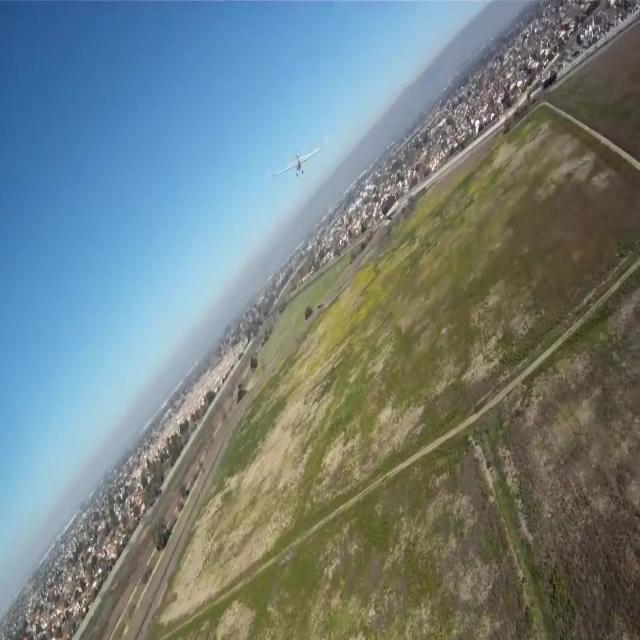iha: (268, 137, 328, 180)
